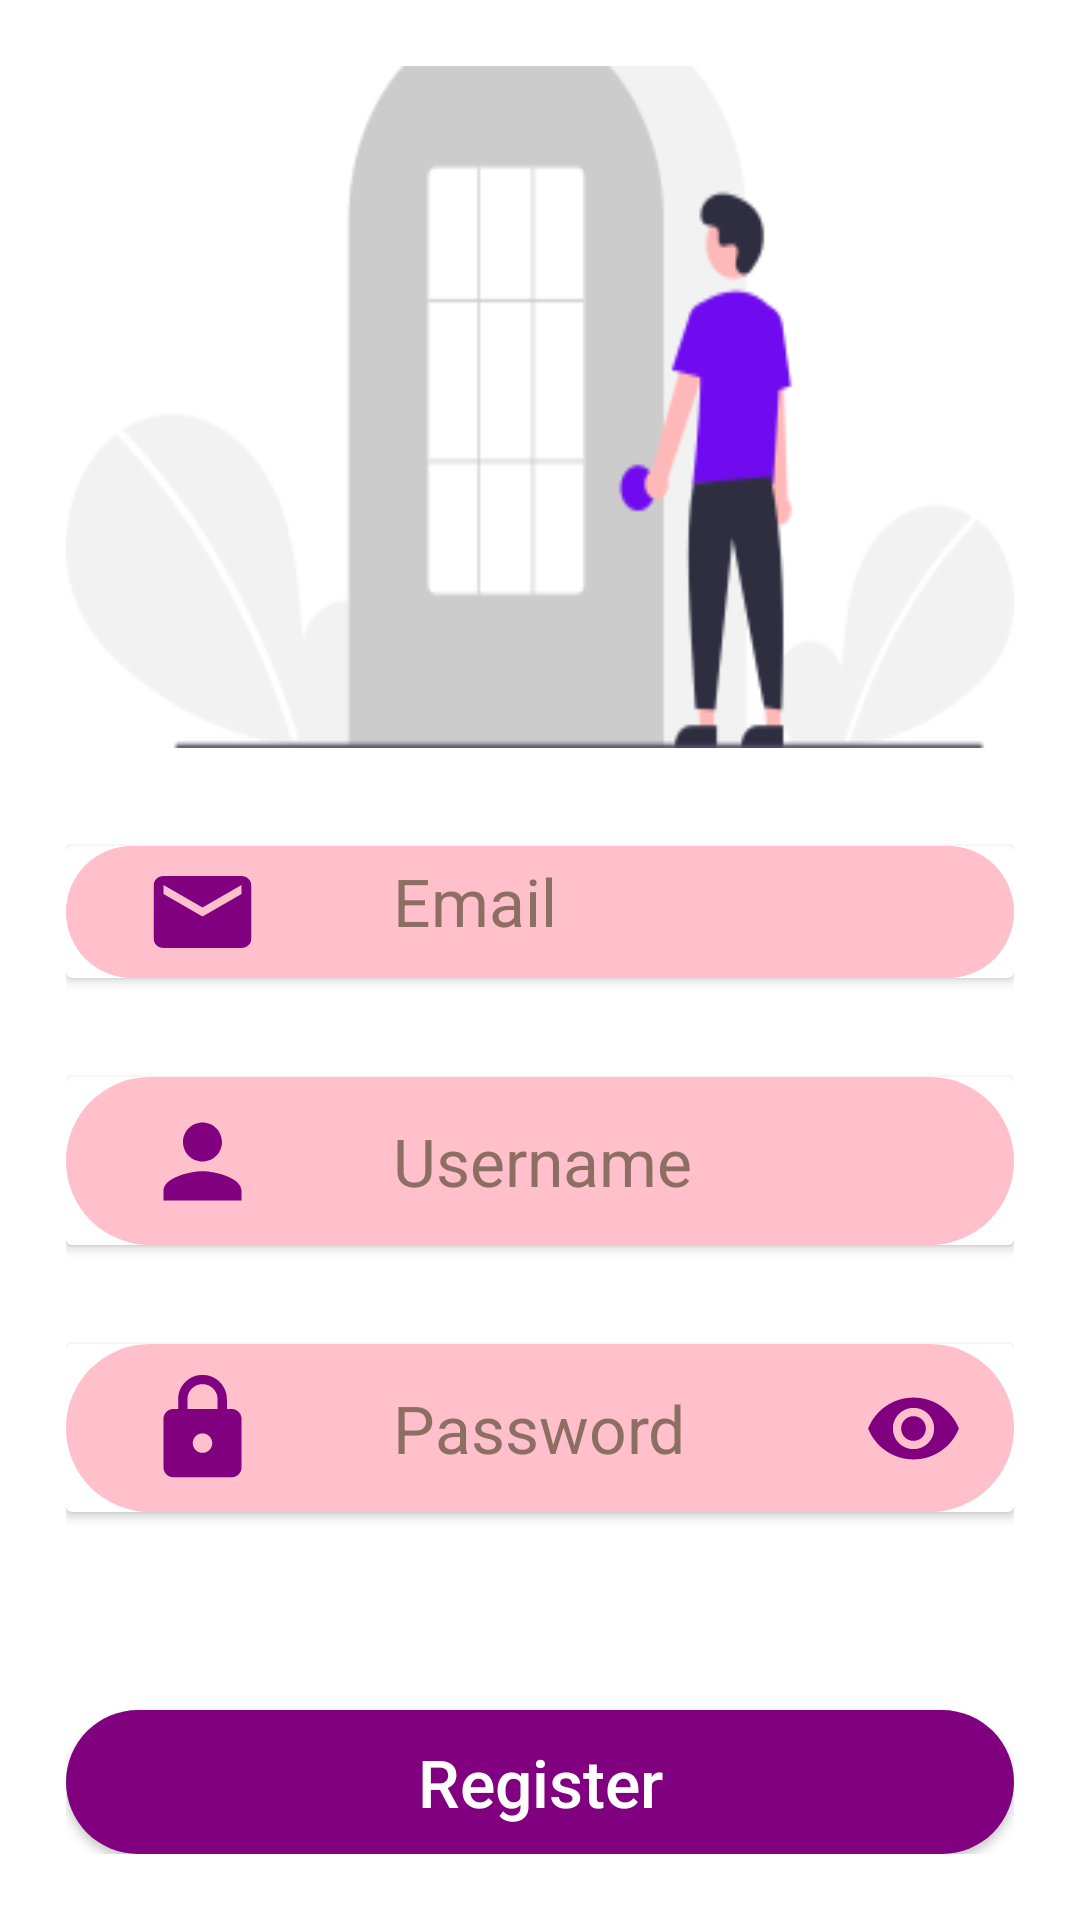

Icons on this 1080w x 1920h Android screen, each with the point to tap as (x,y):
lock: (202,1426)
person: (202,1161)
